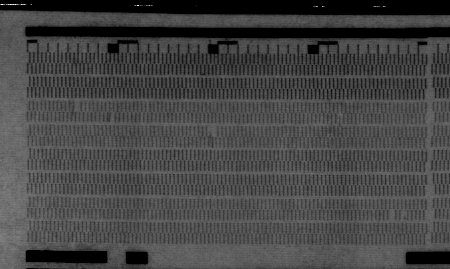Broken hole: (204, 124, 219, 138), (72, 99, 83, 112), (398, 209, 409, 222), (386, 209, 396, 221)
Oblique printing: (104, 111, 118, 124), (334, 113, 346, 127)
